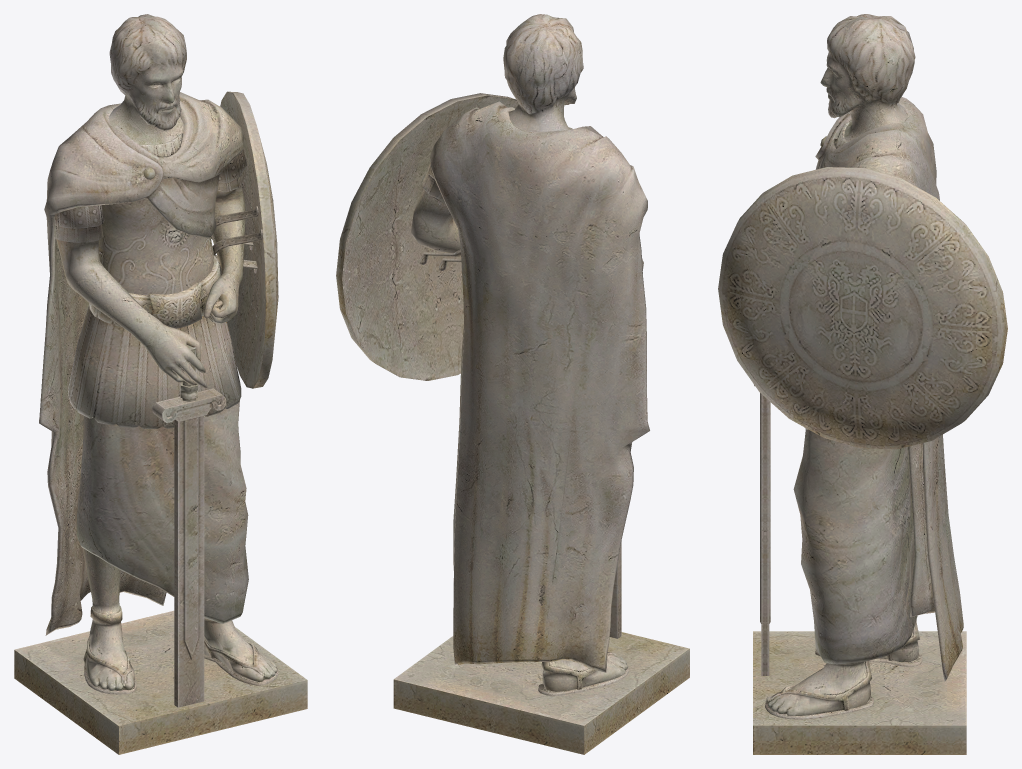
File: Basic1.fbx
3 views of the same model, side by side, from view 1: azimuth 30°, elevation 25°; view 2: azimuth 150°, elevation 25°; view 3: azimuth 270°, elevation 25° (orthographic). The views are drawn at different scales.
Parts seen in each view (by area): view 1: LV_Compagna_Object_KnightlyStatue_SM_NWCNIK; view 2: LV_Compagna_Object_KnightlyStatue_SM_NWCNIK; view 3: LV_Compagna_Object_KnightlyStatue_SM_NWCNIK.
Boxes of the visible parts, x1,y1,x2,y2 form: LV_Compagna_Object_KnightlyStatue_SM_NWCNIK: (14, 14, 307, 754); LV_Compagna_Object_KnightlyStatue_SM_NWCNIK: (336, 14, 689, 754); LV_Compagna_Object_KnightlyStatue_SM_NWCNIK: (718, 14, 1007, 754).
Bounding box in the file's own units: 0.3912 × 1.01 × 0.3872.
1 material, 1 textured.
